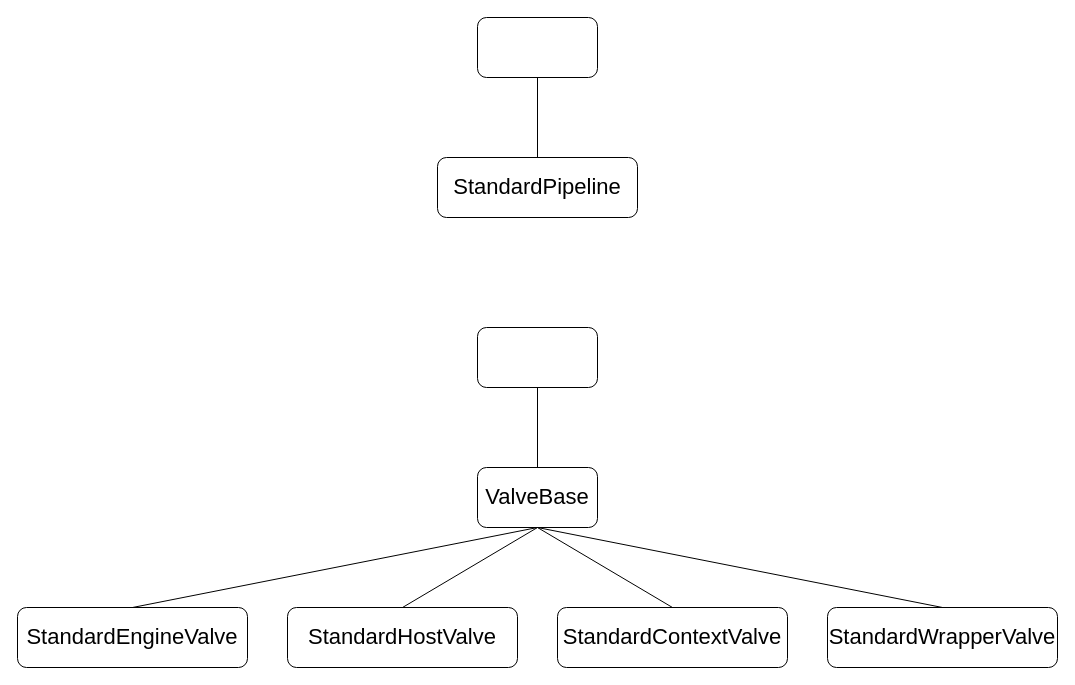
The diagram is 1075 pixels wide and 685 high, and some of its shapes have lost their labels. The shapes that lost their labels are listed below. From the top down, each one's centre as x and y in pixels, then its label:
pixel 537 47: Pipeline
pixel 537 357: Valve
